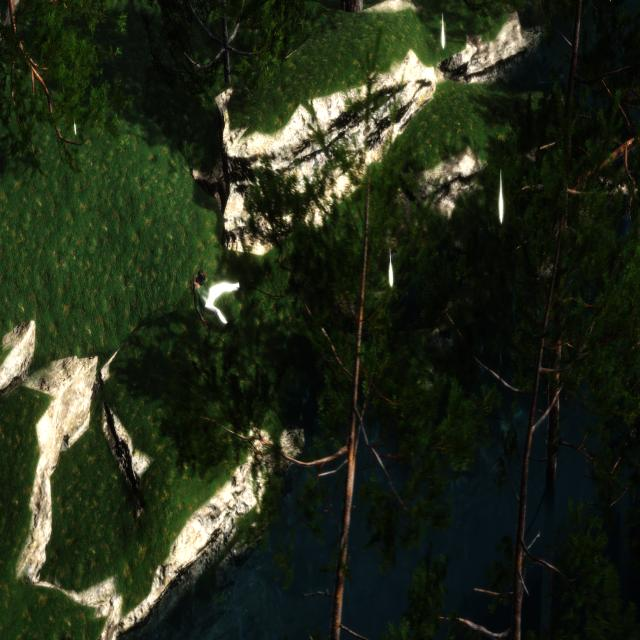Human: (190, 268, 244, 333)
